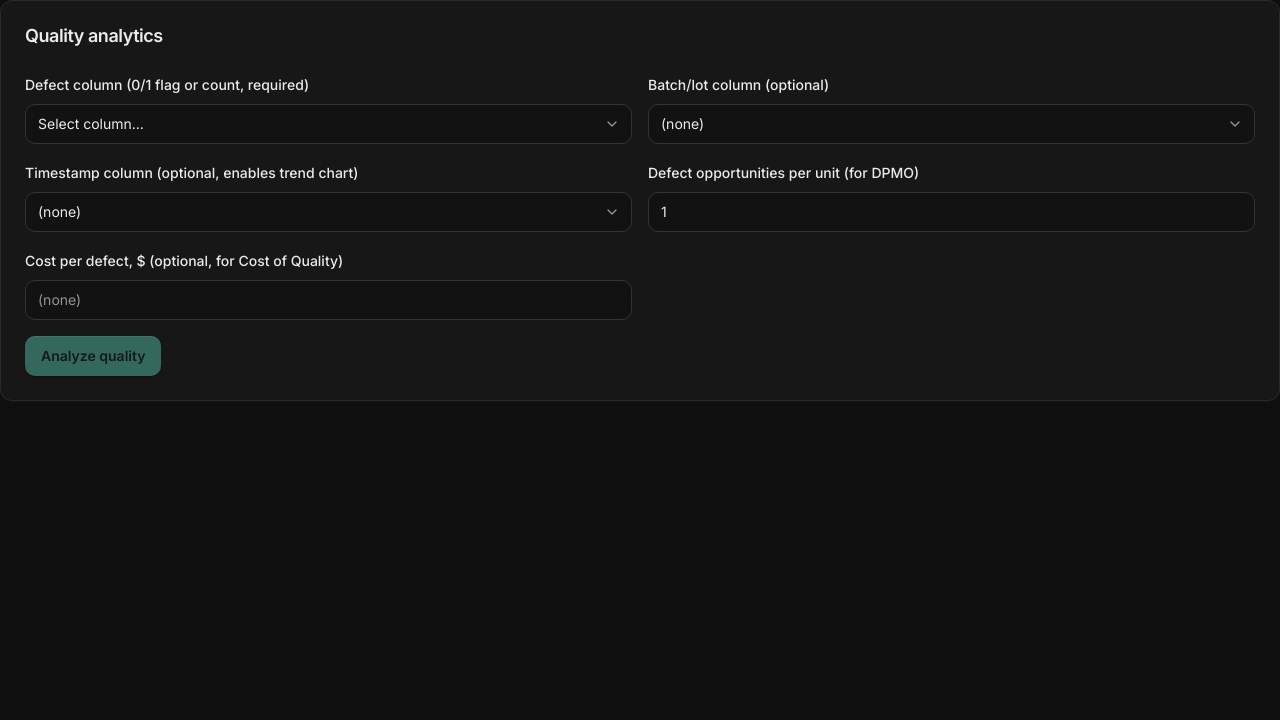
Scenario: QualityPanel › omits optional fields and hides empty sections
Select "defect" in the 1st dropdown: (328, 124) [25,104,632,144]
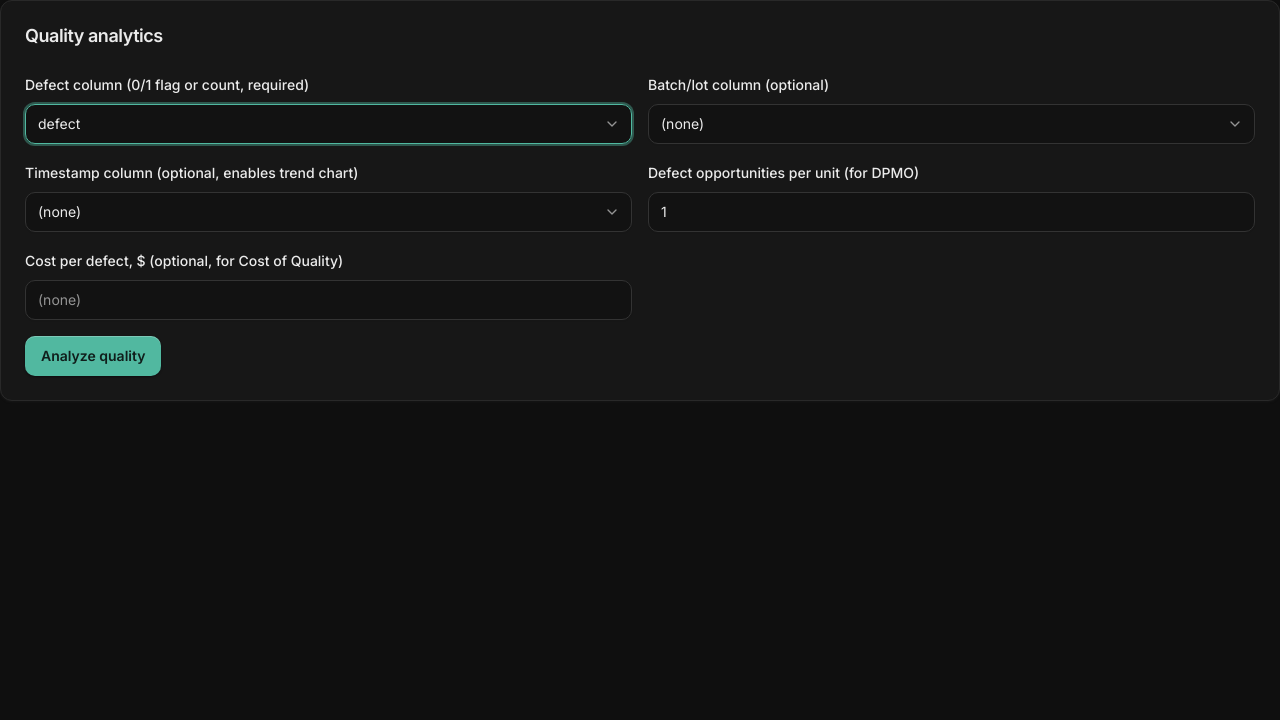
Clear the 1st number field: (952, 212) [648,192,1255,232]
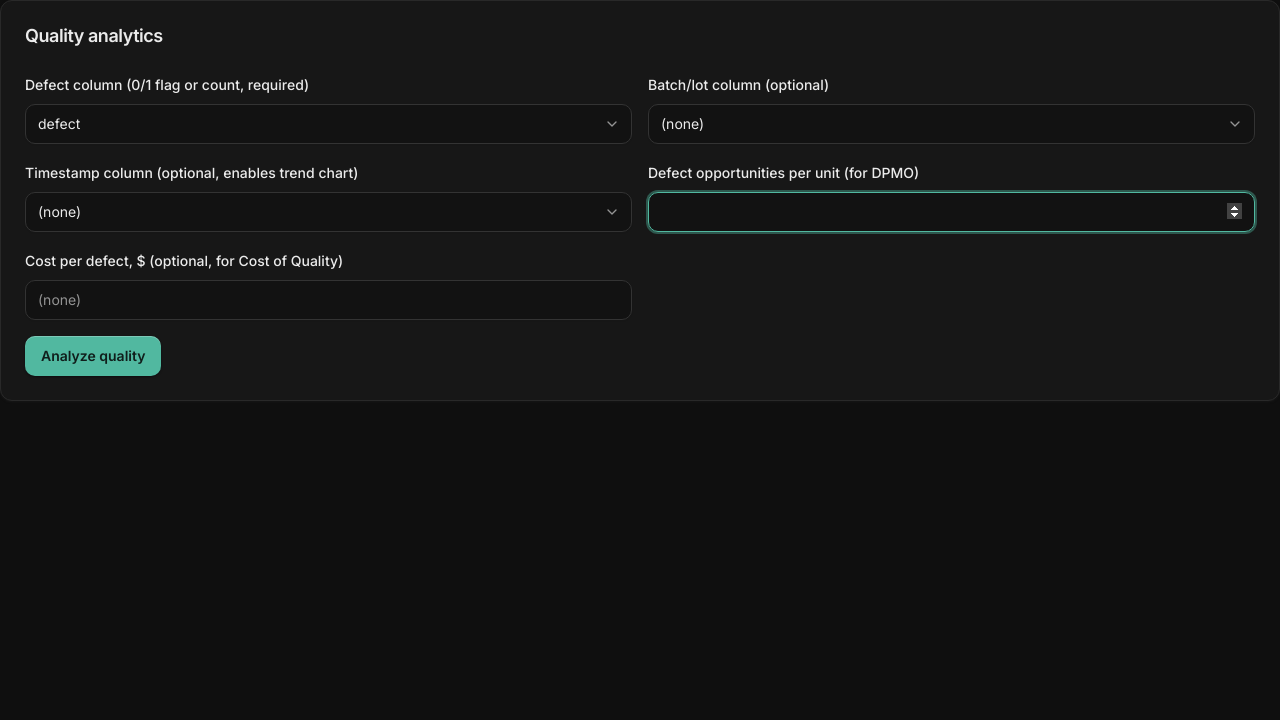
Click the button "Analyze quality": click(93, 356) [25,336,162,376]
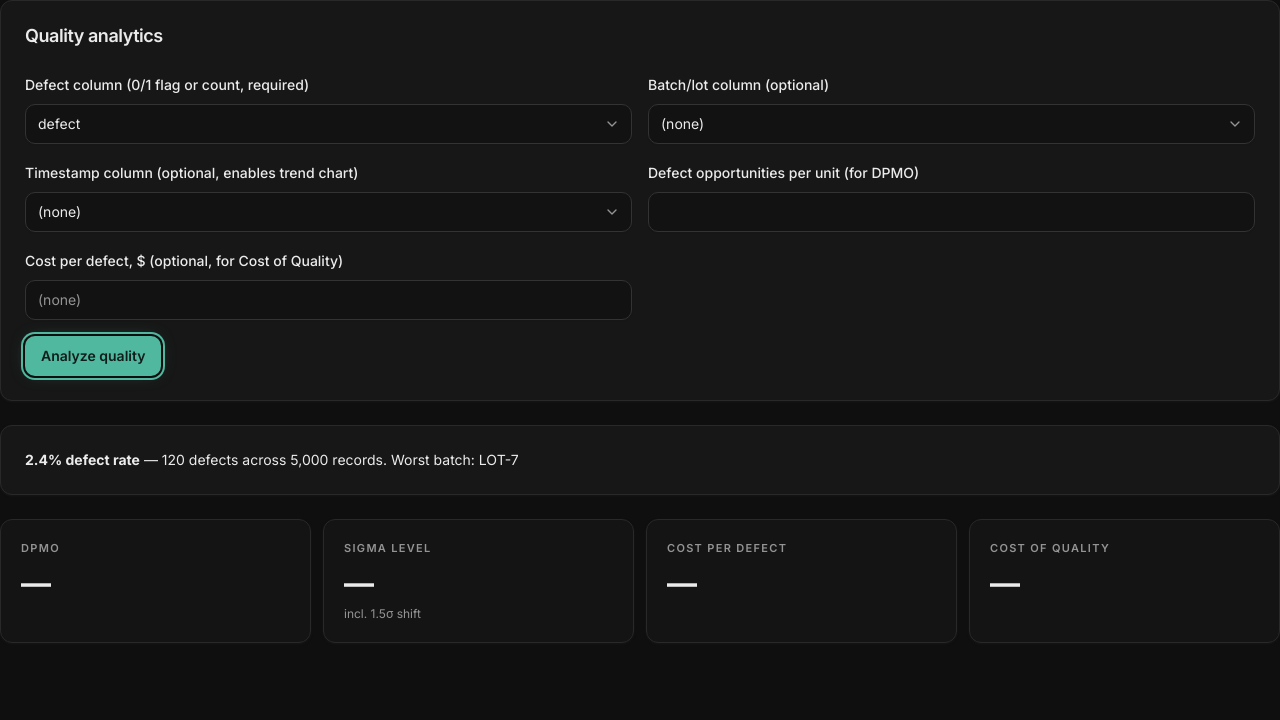
Check: the text "2.4% defect rate" is shown, box [25,450,140,468]
Check: the text "—" is shown 4 times, box [21,565,50,601]; [344,565,373,601]; [667,565,696,601]; [990,565,1019,601]
